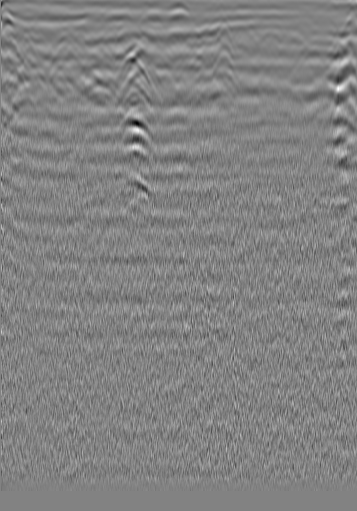가스: (112, 125, 158, 171)
상수: (285, 28, 305, 48)
오수: (17, 23, 37, 43)
우수: (169, 18, 189, 38)
